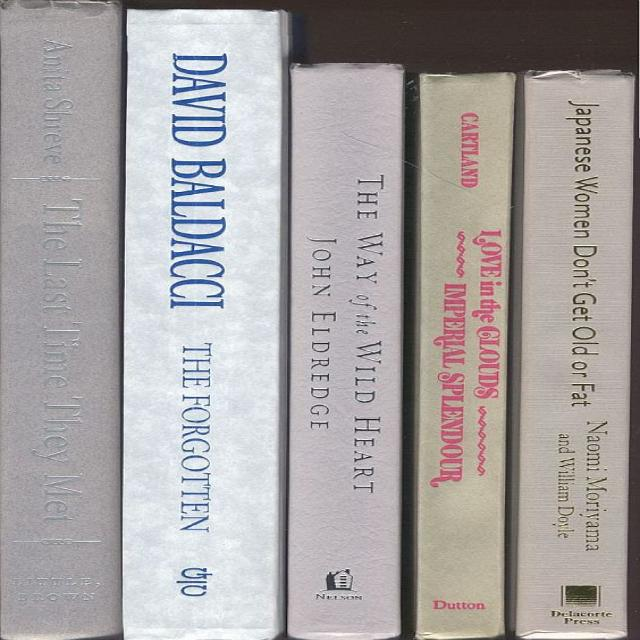book: (123, 11, 289, 639), (0, 0, 121, 639), (510, 71, 634, 639), (287, 64, 403, 639), (412, 73, 514, 639)
